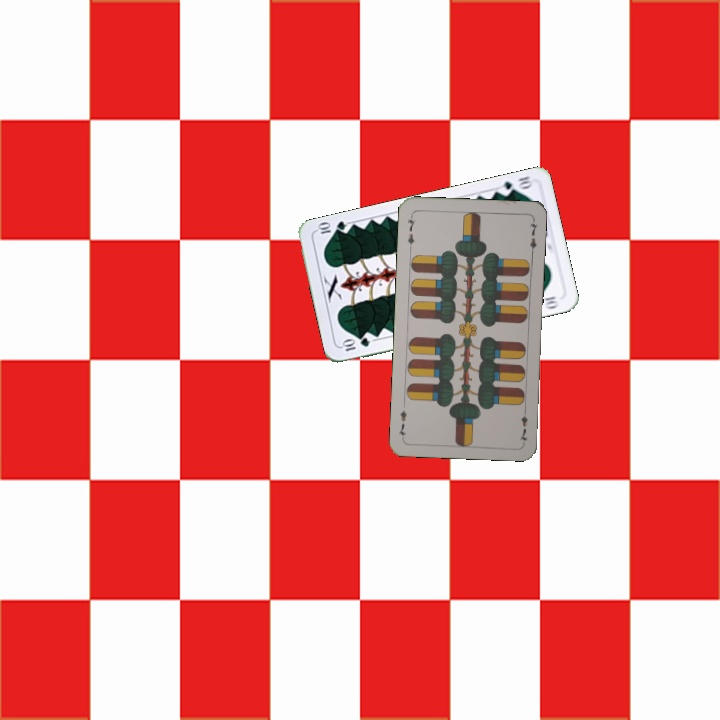E7: (403, 211, 418, 252), (516, 404, 530, 445)
G10: (495, 172, 534, 198), (338, 334, 372, 354)
